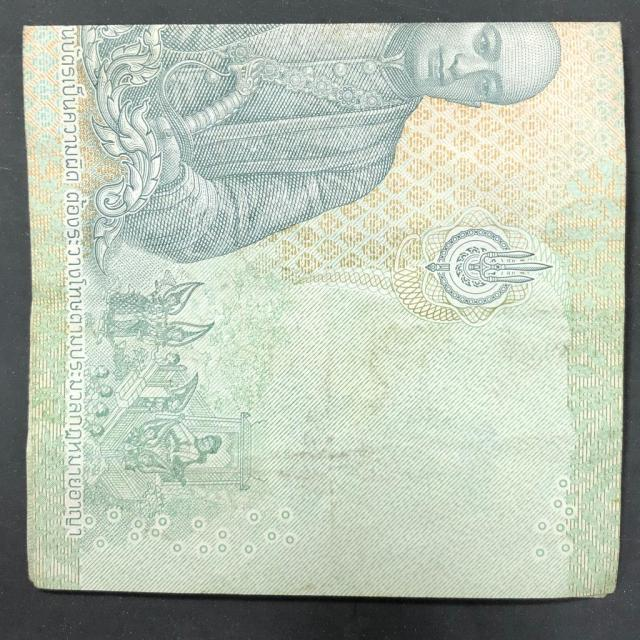THAI20: (21, 22, 629, 601)
